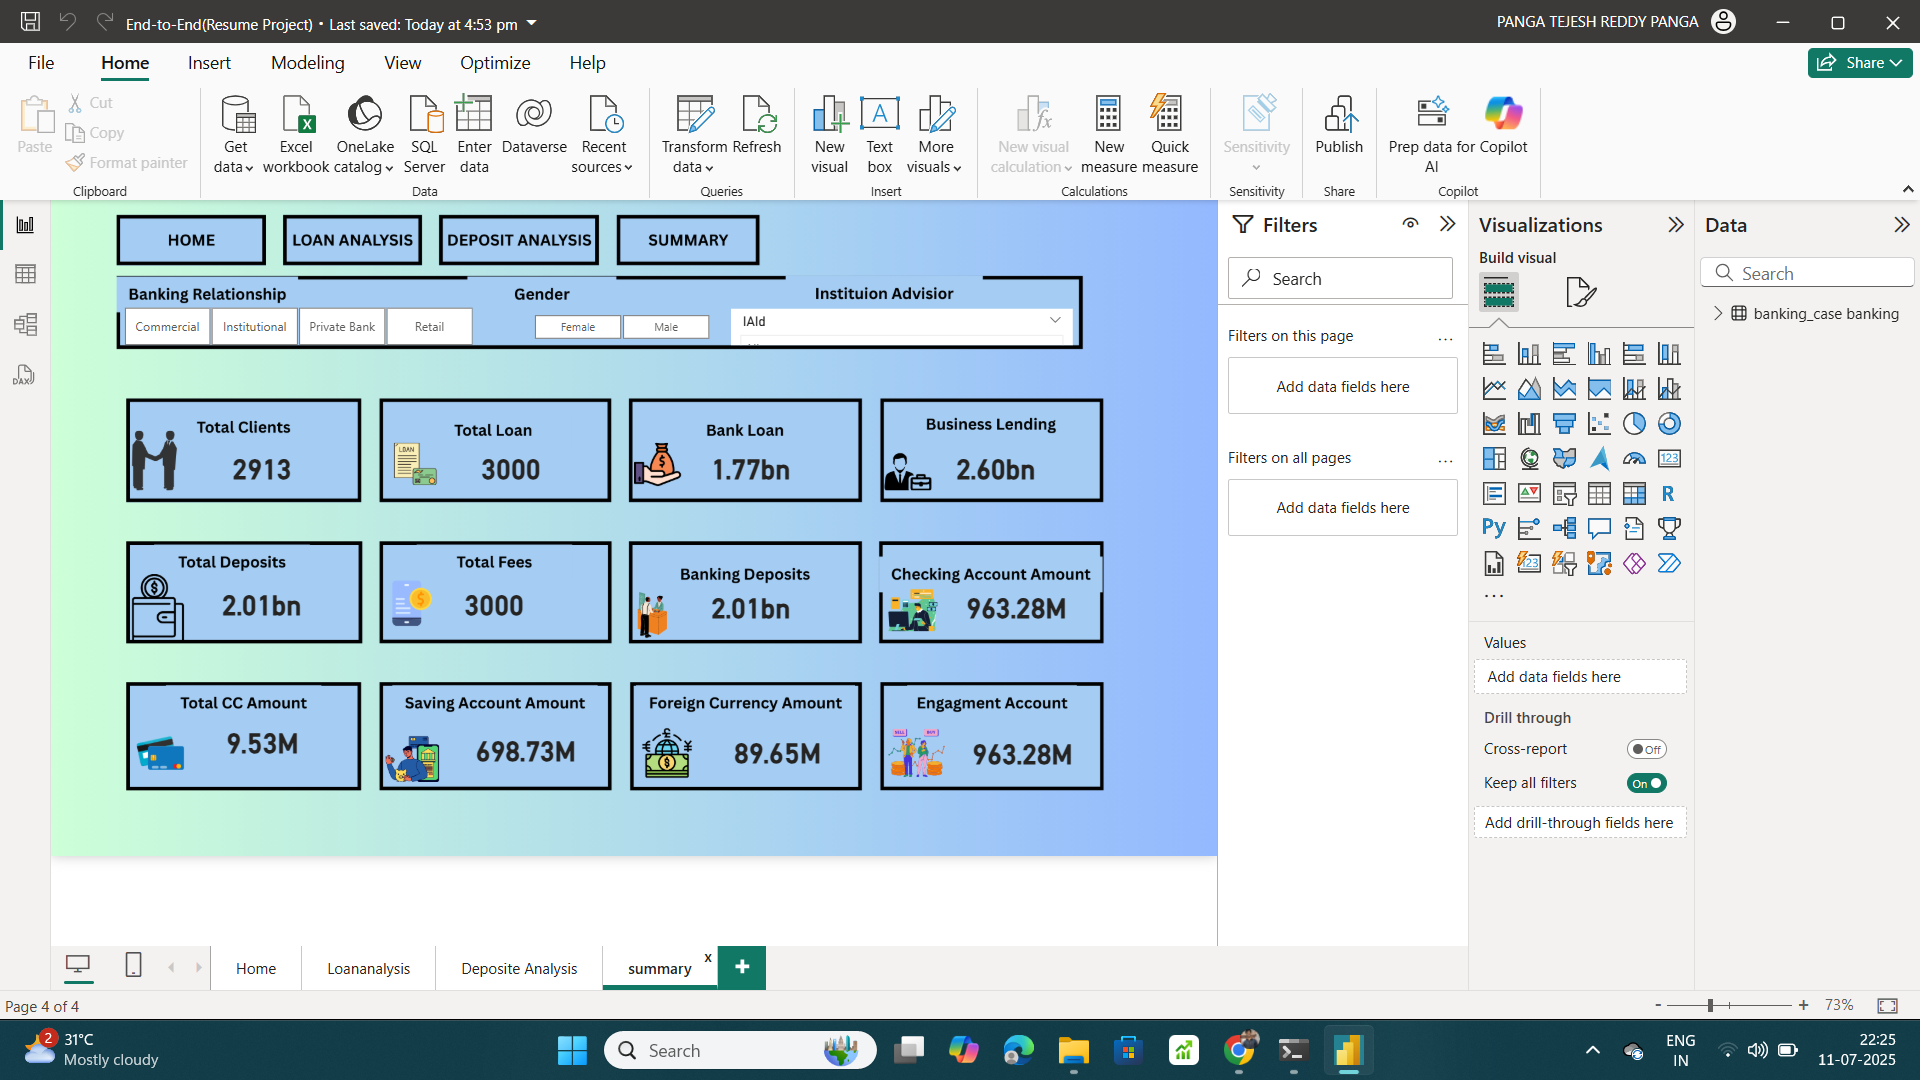

Layout of this report page (visuals, bound fields, positions):
{"tool":"powerbi","page":{"name":"summary","canvas":[1280,720],"ordinal":3},"visuals":[{"type":"slicer","fields":{"Values":["banking_case banking.BRId"]},"box":[55,111.7,431.7,55],"z":0},{"type":"slicer","fields":{"Values":["banking_case banking.GenderId"]},"box":[505,120,241.7,40],"z":1},{"type":"slicer","fields":{"Values":["banking_case banking.IAId"]},"box":[746.7,120,375,40],"z":2},{"type":"card","fields":{"Values":["Count(banking_case banking.Name)"]},"box":[146.7,275,170,38.3],"z":3},{"type":"card","fields":{"Values":["CountNonNull(banking_case banking.Bank Loans)"]},"box":[403.3,275,203.3,38.3],"z":4},{"type":"card","fields":{"Values":["Sum(banking_case banking.Bank Loans)"]},"box":[683.3,275,170,38.3],"z":5},{"type":"card","fields":{"Values":["Sum(banking_case banking.Business Lending)"]},"box":[951.7,275,170,38.3],"z":6},{"type":"card","fields":{"Values":["Sum(banking_case banking.Bank Deposits)"]},"box":[156.7,421.7,150,43.3],"z":7},{"type":"card","fields":{"Values":["Sum(banking_case banking.Saving Accounts)"]},"box":[436.7,585,170,38.3],"z":8},{"type":"card","fields":{"Values":["Sum(banking_case banking.Checking Accounts)"]},"box":[986.7,426.7,146.7,38.3],"z":9},{"type":"card","fields":{"Values":["Sum(banking_case banking.Bank Deposits)"]},"box":[683.3,426.7,170,38.3],"z":10},{"type":"card","fields":{"Values":["CountNonNull(banking_case banking.Fee Structure)"]},"box":[411.7,421.7,150,43.3],"z":11},{"type":"card","fields":{"Values":["Sum(banking_case banking.Credit Card Balance)"]},"box":[151.7,565,160,58.3],"z":12},{"type":"card","fields":{"Values":["Sum(banking_case banking.Foreign Currency Account)"]},"box":[718.3,576.7,160,58.3],"z":13},{"type":"card","fields":{"Values":["Sum(banking_case banking.Checking Accounts)"]},"box":[986.7,578.3,160,58.3],"z":14},{"type":"actionButton","box":[75,25,156.7,40],"z":15},{"type":"actionButton","box":[436.7,25,158.3,40],"z":16},{"type":"actionButton","box":[258.3,25,145,40],"z":17},{"type":"actionButton","box":[646.7,25,100,40],"z":18}]}

Visuals, with their boxes on the page's 1280x720 design canvas (x1, y1, x2, y2). These are canvas units, not pixel positions in the 1920x1080 screenshot, which may show the page scaled, cropped or inside an application window:
slicer - banking_case banking.BRId: region(55, 112, 487, 167)
slicer - banking_case banking.GenderId: region(505, 120, 747, 160)
slicer - banking_case banking.IAId: region(747, 120, 1122, 160)
card - Count(banking_case banking.Name): region(147, 275, 317, 313)
card - CountNonNull(banking_case banking.Bank Loans): region(403, 275, 607, 313)
card - Sum(banking_case banking.Bank Loans): region(683, 275, 853, 313)
card - Sum(banking_case banking.Business Lending): region(952, 275, 1122, 313)
card - Sum(banking_case banking.Bank Deposits): region(157, 422, 307, 465)
card - Sum(banking_case banking.Saving Accounts): region(437, 585, 607, 623)
card - Sum(banking_case banking.Checking Accounts): region(987, 427, 1133, 465)
card - Sum(banking_case banking.Bank Deposits): region(683, 427, 853, 465)
card - CountNonNull(banking_case banking.Fee Structure): region(412, 422, 562, 465)
card - Sum(banking_case banking.Credit Card Balance): region(152, 565, 312, 623)
card - Sum(banking_case banking.Foreign Currency Account): region(718, 577, 878, 635)
card - Sum(banking_case banking.Checking Accounts): region(987, 578, 1147, 637)
actionButton: region(75, 25, 232, 65)
actionButton: region(437, 25, 595, 65)
actionButton: region(258, 25, 403, 65)
actionButton: region(647, 25, 747, 65)
